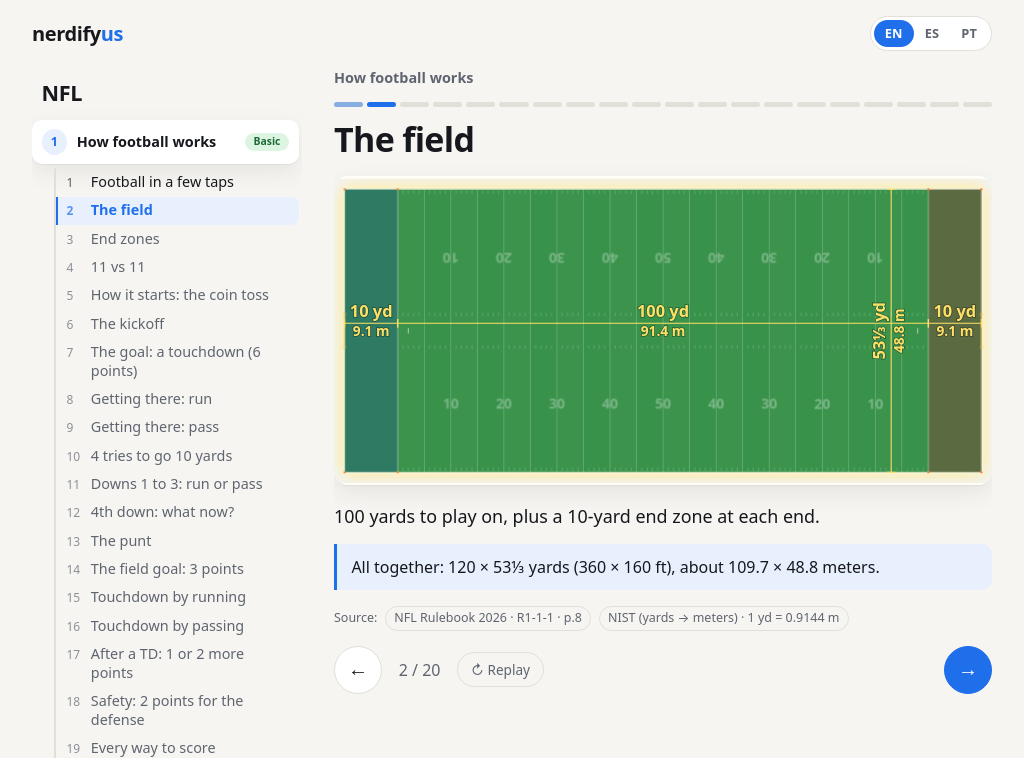
language switcher › switches the slide text after the page has rendered
Expected: the heading "The field" is shown, x1=334 y1=121 x2=474 y2=162
Click the button "ES": [932, 34] box x1=914 y1=20 x2=950 y2=47
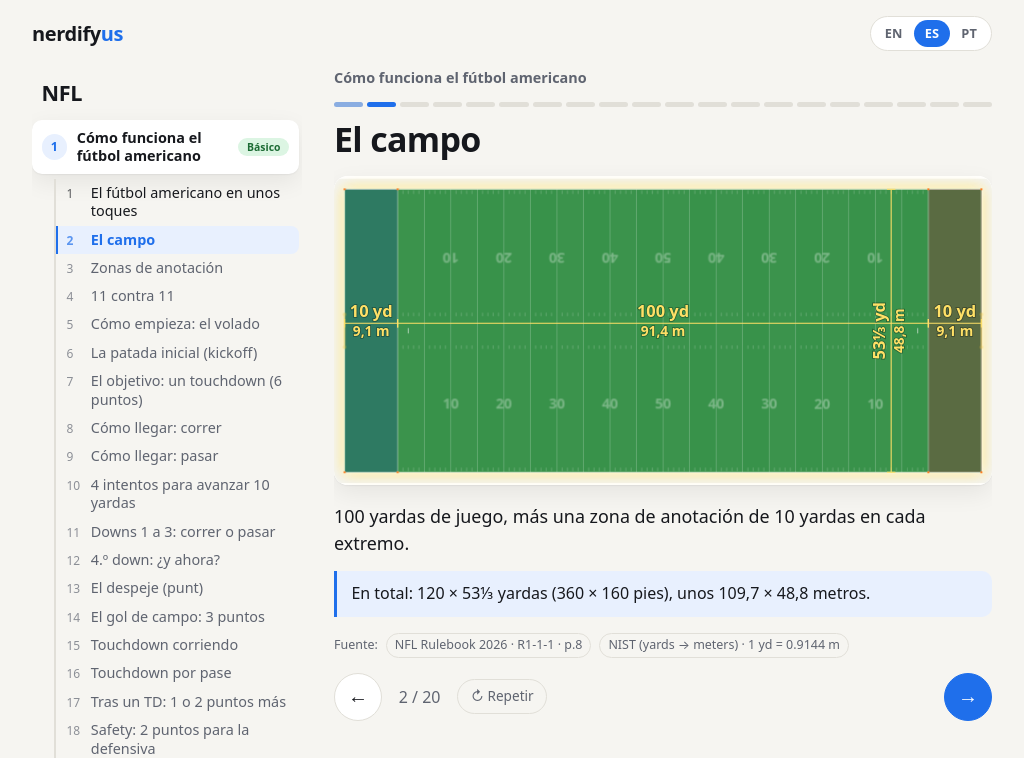
Result: the heading "El campo" is shown at x1=334 y1=121 x2=481 y2=162
Click the button "PT": [969, 34] box x1=950 y1=20 x2=988 y2=47
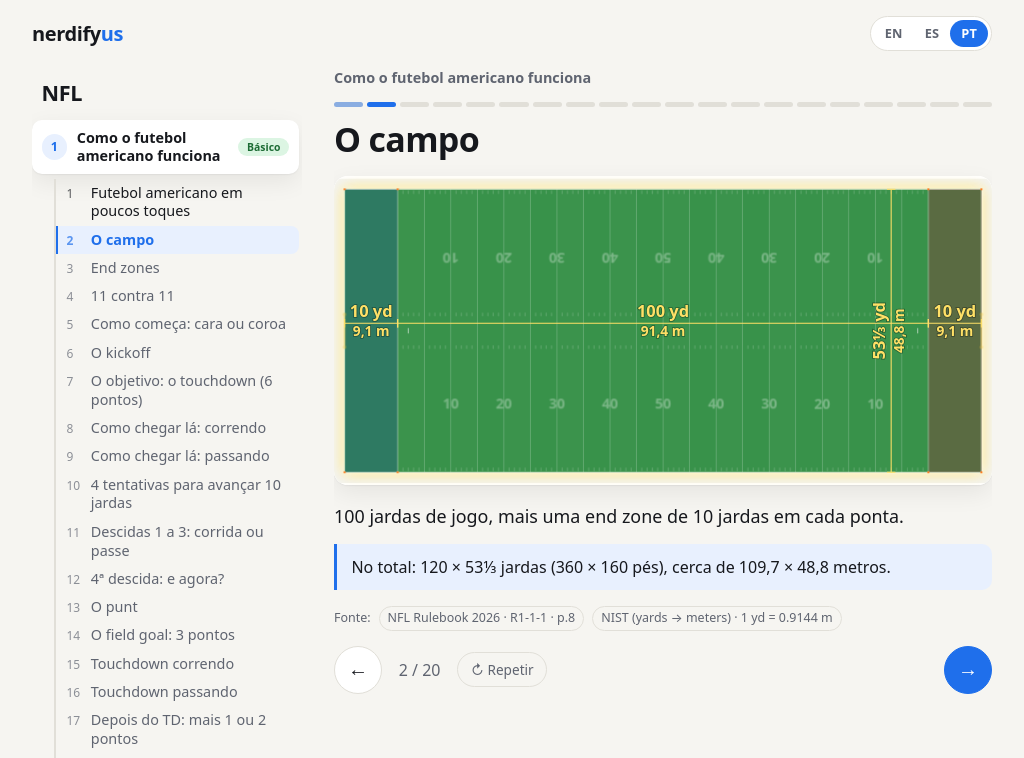
Result: the heading "O campo" is shown at x1=334 y1=121 x2=479 y2=162
